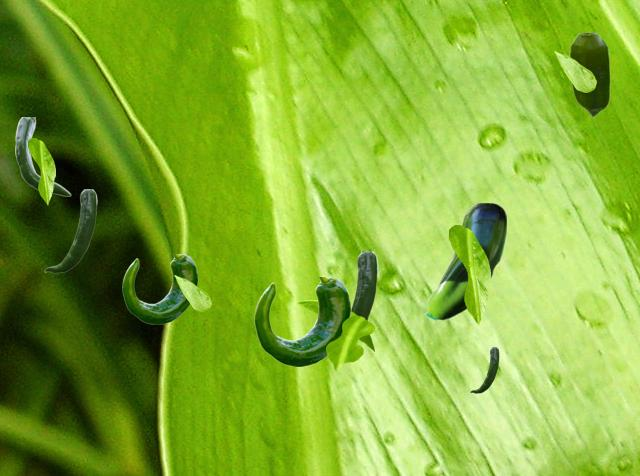green_chili: (423, 203, 505, 320), (254, 277, 350, 365), (122, 254, 197, 323), (44, 189, 96, 272), (15, 117, 70, 195), (569, 33, 609, 116), (351, 251, 377, 320), (470, 347, 498, 392)
